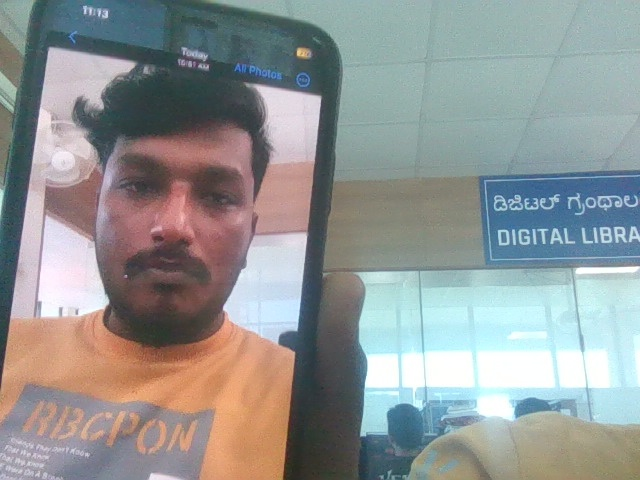fake: (63, 31, 287, 348)
